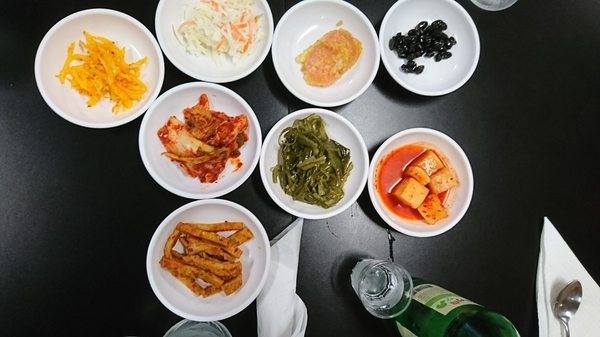sushi: (32, 9, 164, 128), (144, 200, 271, 319), (139, 81, 263, 198), (260, 108, 369, 220), (270, 0, 380, 107), (367, 126, 474, 236), (378, 0, 481, 96), (155, 0, 273, 83)
